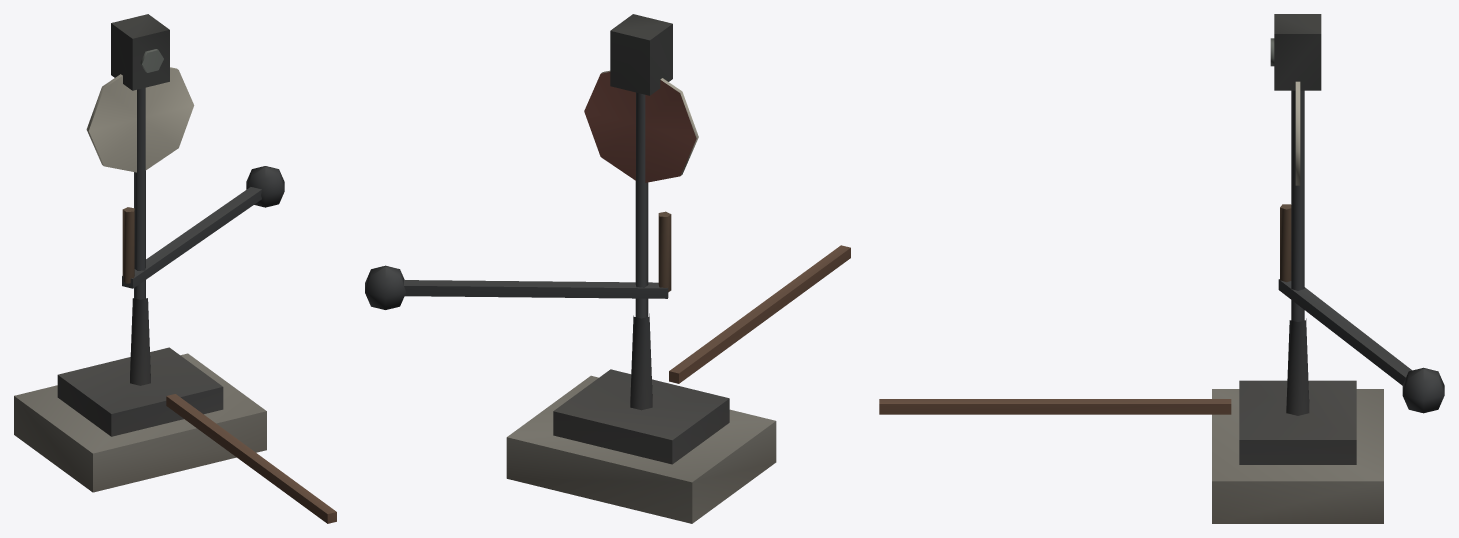
The model's file is m01_prop_point_lever_lod1.glb.
The picture shows the model from 3 angles, left to right: view 1: azimuth 30°, elevation 25°; view 2: azimuth 150°, elevation 25°; view 3: azimuth 270°, elevation 25°; orthographic projection. The views are drawn at different scales.
Visible parts, largest first — view 1: point_lever; view 2: point_lever; view 3: point_lever.
Part boxes in pixels (bbox=[...]): point_lever: bbox=[14, 14, 336, 523]; point_lever: bbox=[365, 14, 850, 523]; point_lever: bbox=[879, 14, 1444, 523].
Size of the model in its own units: 0.93 by 1.28 by 1.44.
